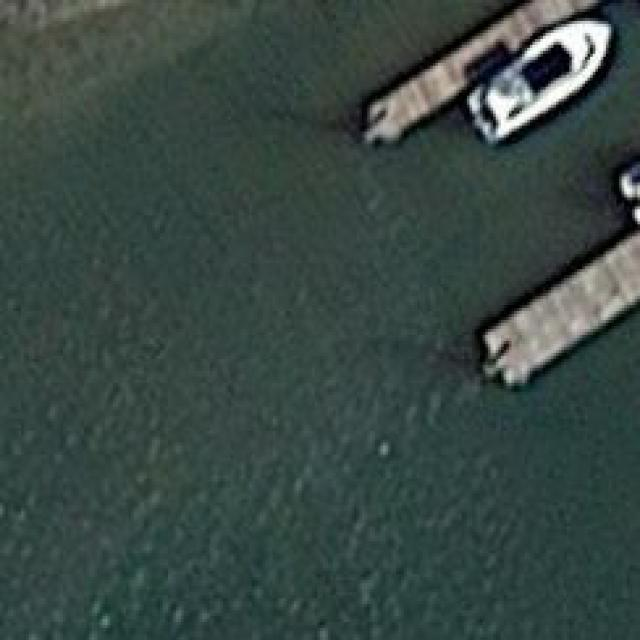boat: (459, 18, 611, 155)
